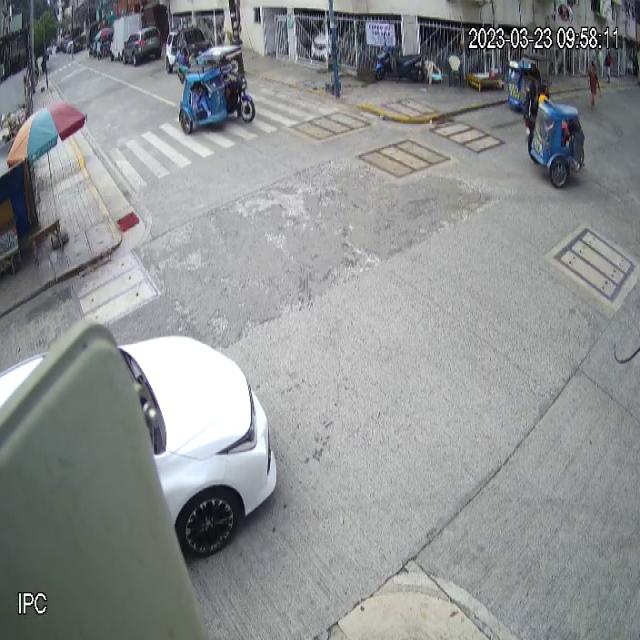Tricycle: (178, 44, 258, 141), (524, 80, 588, 190)
